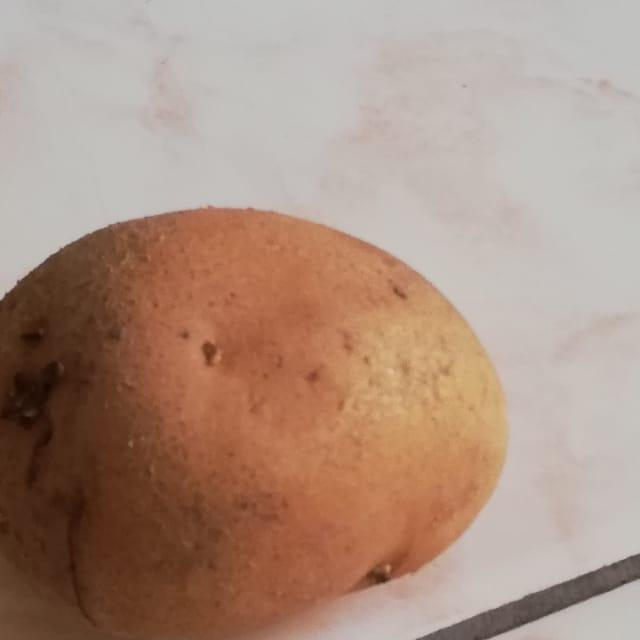potato: (0, 196, 525, 640)
